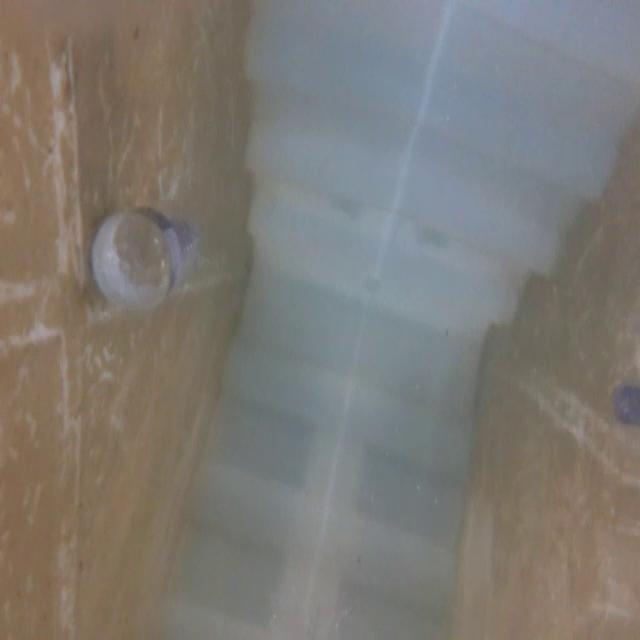plastic bottle: (37, 188, 220, 401)
